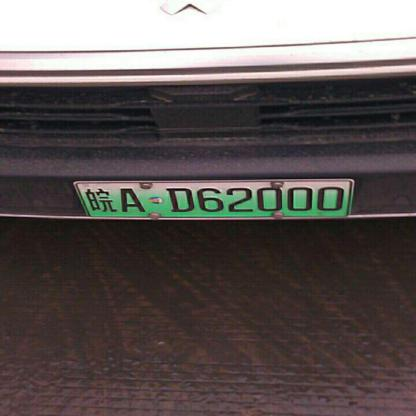lp: (75, 180, 352, 216)
